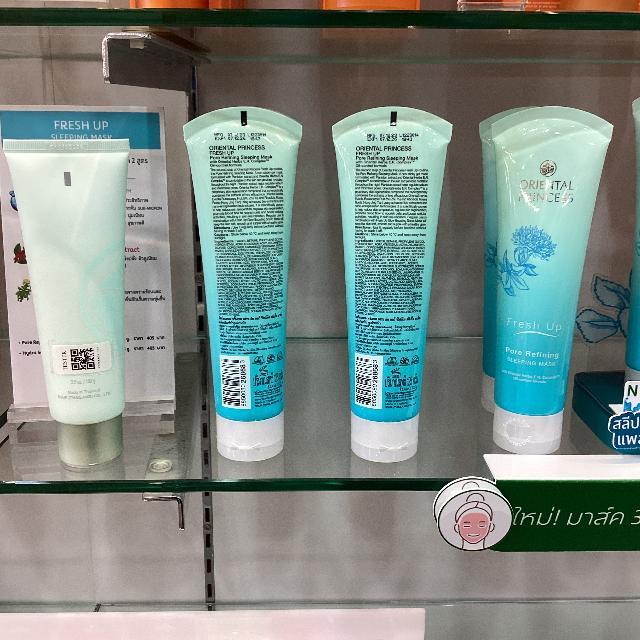Squeeze Tube: (0, 80, 640, 502), (3, 109, 156, 482), (321, 99, 462, 490), (476, 89, 621, 466), (170, 104, 300, 466)
